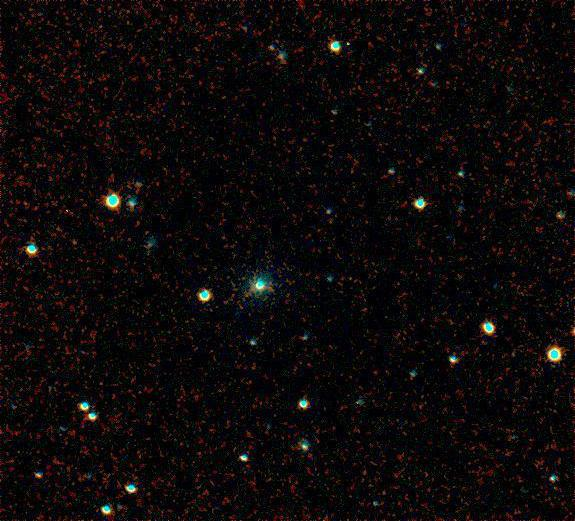star: (54, 224, 84, 254)
